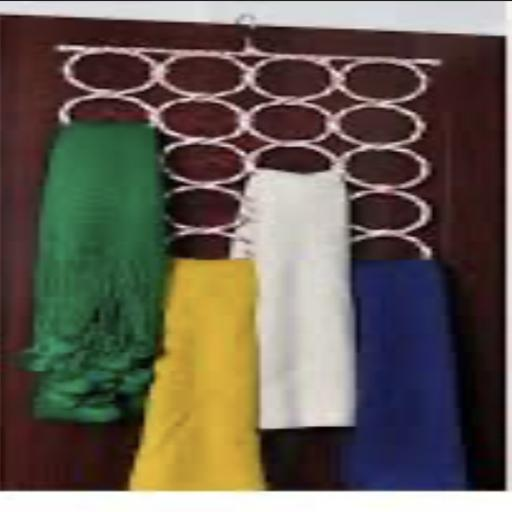dupatta: (2, 114, 156, 423), (210, 168, 360, 430), (342, 255, 479, 490), (160, 256, 256, 487)
